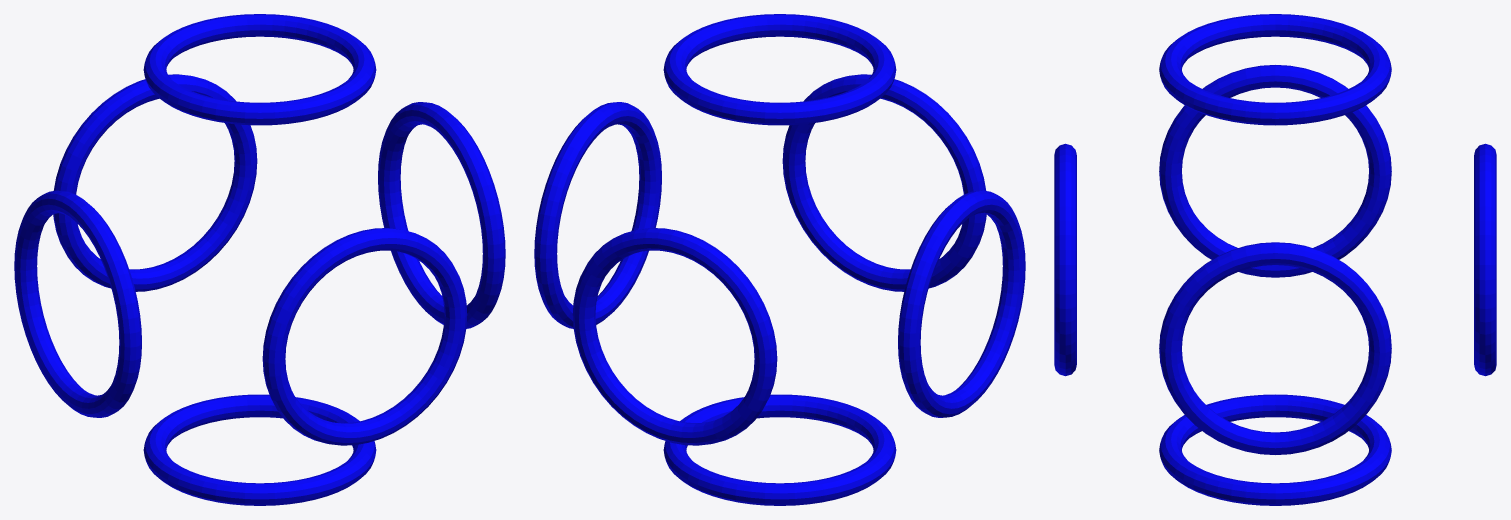
The model's file is gizmoColFbx.fbx.
3 views of the same model, side by side, from view 1: azimuth 30°, elevation 25°; view 2: azimuth 150°, elevation 25°; view 3: azimuth 270°, elevation 25° (orthographic).
Parts seen in each view (by area): view 1: TorusColC.006, TorusColC.004, TorusColC.001, TorusColC.003, TorusColC.002, TorusColC.005; view 2: TorusColC.003, TorusColC.004, TorusColC.001, TorusColC.006, TorusColC.002, TorusColC.005; view 3: TorusColC.002, TorusColC.004, TorusColC.001, TorusColC.005, TorusColC.003, TorusColC.006.
Part boxes in pixels (box(x1,y1,x2,y2)): TorusColC.006: box(262, 228, 467, 445); TorusColC.004: box(14, 190, 141, 417); TorusColC.001: box(143, 14, 376, 125); TorusColC.003: box(53, 74, 257, 291); TorusColC.002: box(378, 102, 505, 328); TorusColC.005: box(143, 394, 376, 505); TorusColC.003: box(572, 228, 777, 445); TorusColC.004: box(898, 190, 1025, 417); TorusColC.001: box(663, 14, 896, 125); TorusColC.006: box(782, 74, 986, 291); TorusColC.002: box(534, 102, 661, 328); TorusColC.005: box(663, 394, 896, 505); TorusColC.002: box(1159, 242, 1391, 454); TorusColC.004: box(1159, 65, 1391, 277); TorusColC.001: box(1159, 14, 1391, 125); TorusColC.005: box(1159, 394, 1391, 505); TorusColC.003: box(1474, 143, 1496, 376); TorusColC.006: box(1054, 143, 1076, 376).
Bounding box in the file's own units: 211 × 211 × 211.
